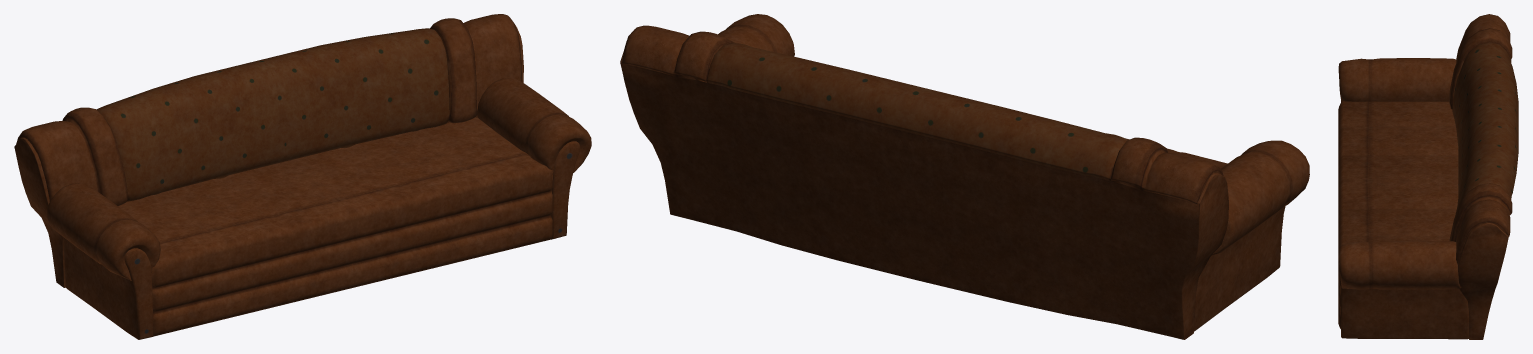
The model's file is SofaRetro02.FBX.
3 views of the same model, side by side, from view 1: azimuth 30°, elevation 25°; view 2: azimuth 150°, elevation 25°; view 3: azimuth 270°, elevation 25° (orthographic). The views are drawn at different scales.
Parts seen in each view (by area): view 1: SofaRetro02_1; view 2: SofaRetro02_1; view 3: SofaRetro02_1.
Part boxes in pixels (x1,y1,x2,y2): SofaRetro02_1: (14,14,591,339); SofaRetro02_1: (620,14,1309,339); SofaRetro02_1: (1338,14,1518,339).
Bounding box in the file's own units: 3457 × 1098 × 1273.
